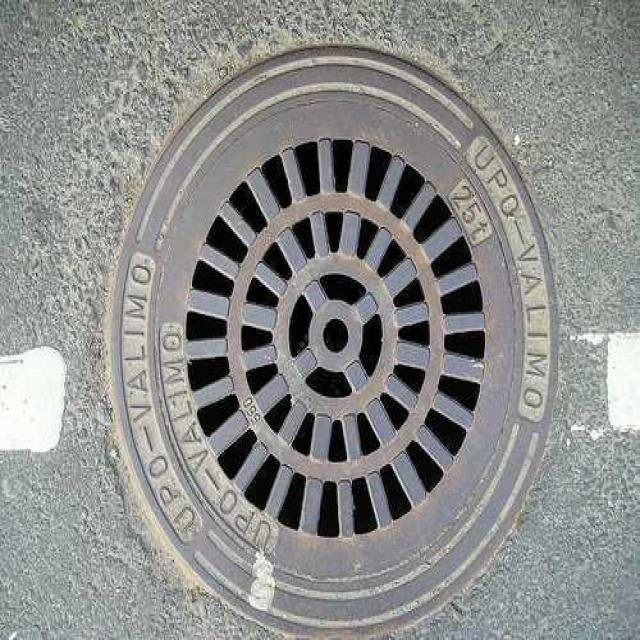manhole: (111, 47, 555, 635)
